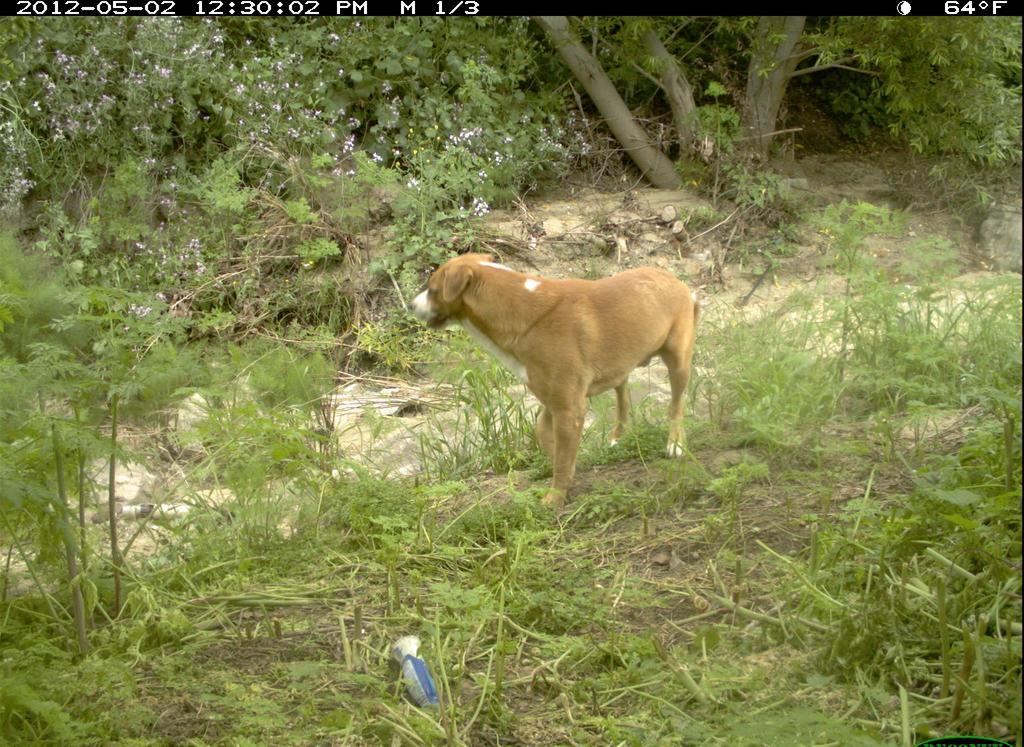dog: (404, 242, 699, 520)
